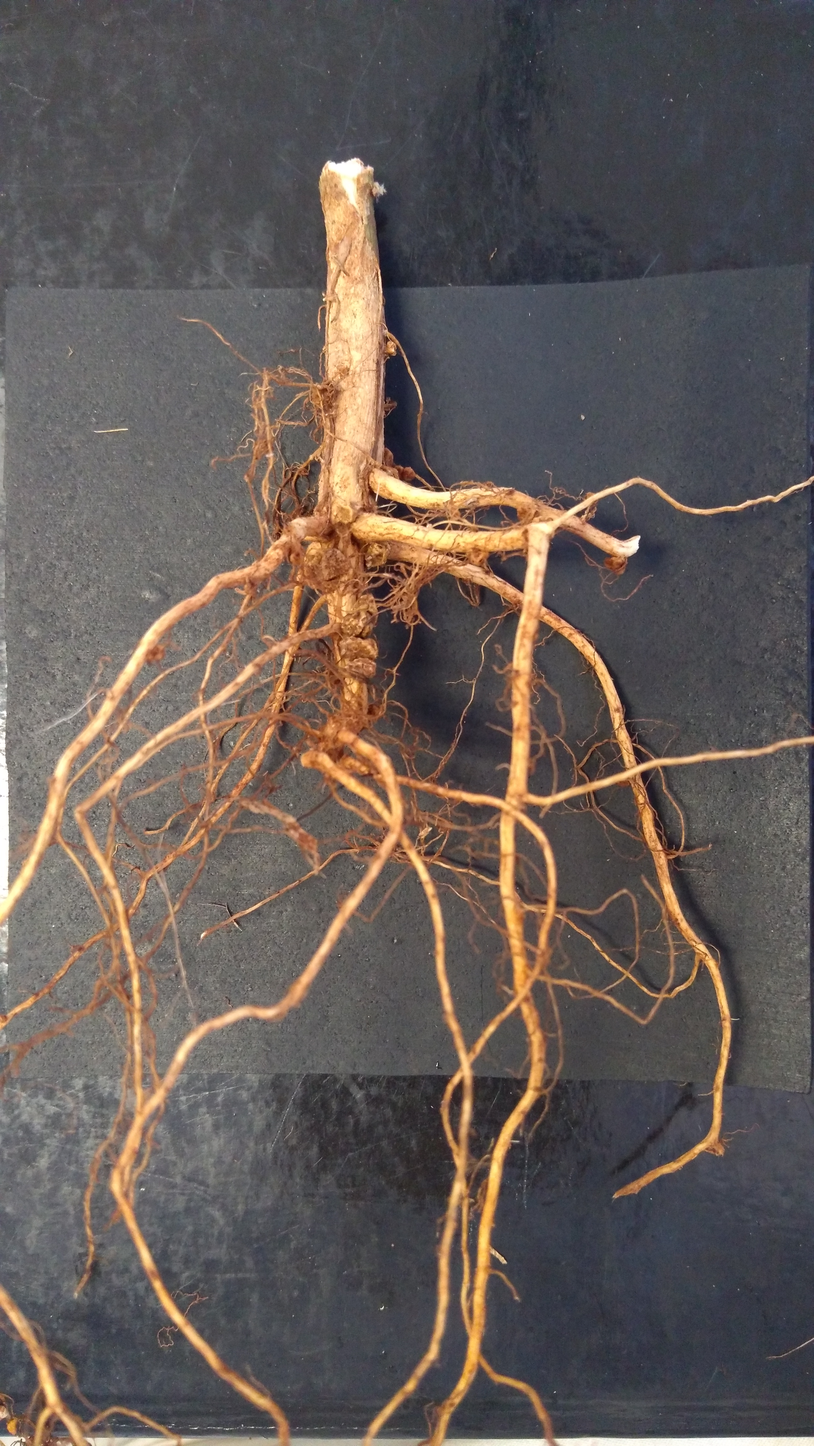nodule: (336, 633, 384, 664), (337, 608, 381, 639), (349, 590, 382, 630), (317, 547, 351, 583), (340, 656, 380, 682), (362, 538, 393, 570), (699, 1133, 732, 1161), (3, 1407, 27, 1441), (143, 642, 170, 667), (303, 540, 322, 568), (517, 498, 534, 523), (382, 444, 395, 468), (385, 338, 399, 358), (402, 464, 415, 482), (584, 492, 598, 504), (395, 465, 404, 480)
